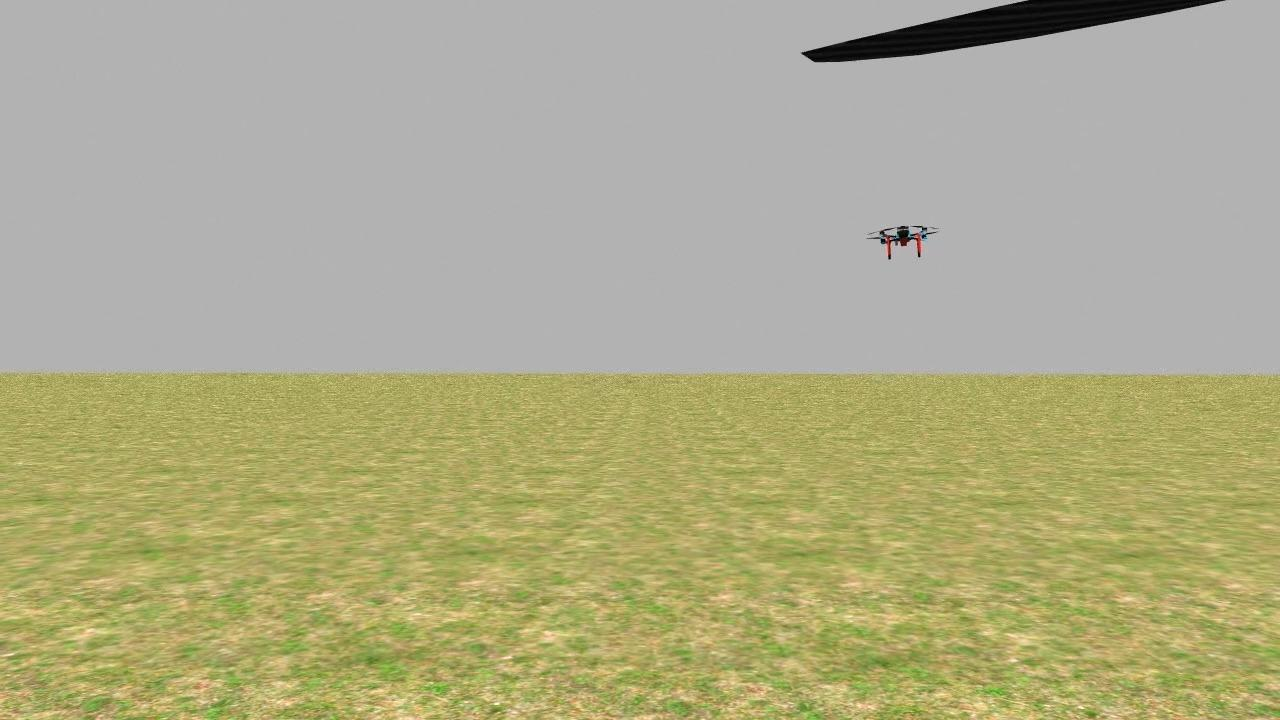UAV: (863, 214, 947, 266)
